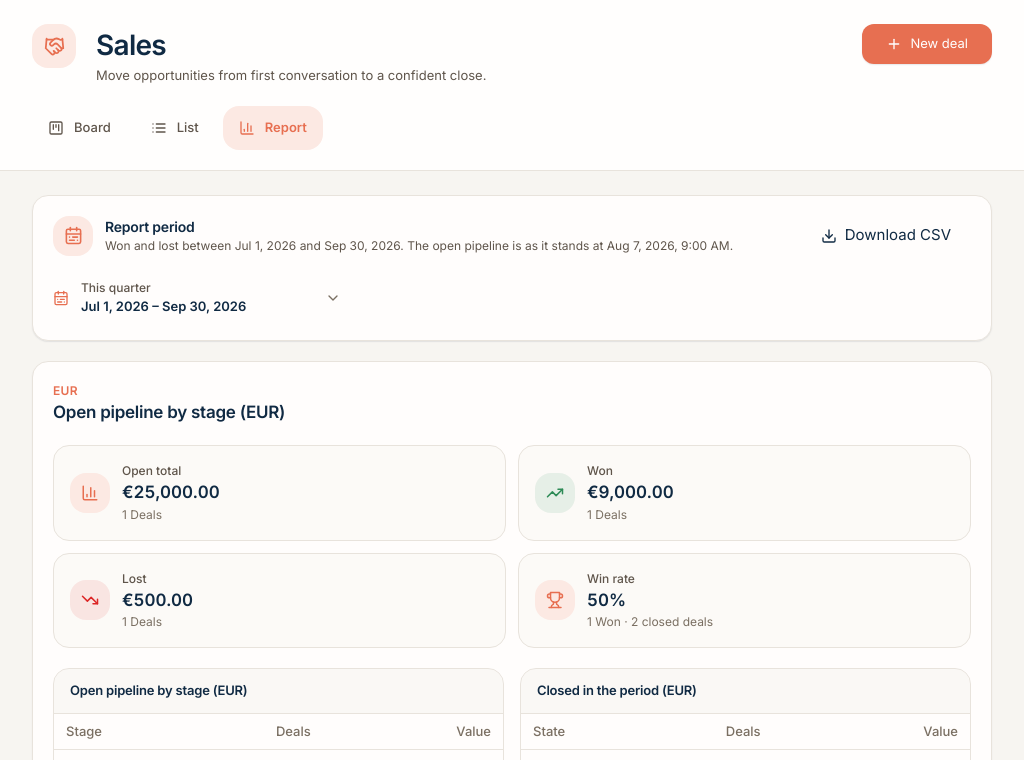
Test: the report › applies a quick range only after the user confirms it
The image size is (1024, 760).
Click the button "This quarter Jul 1, 2026 – Sep 30, 2026" at (197, 298), box [53, 276, 341, 320]
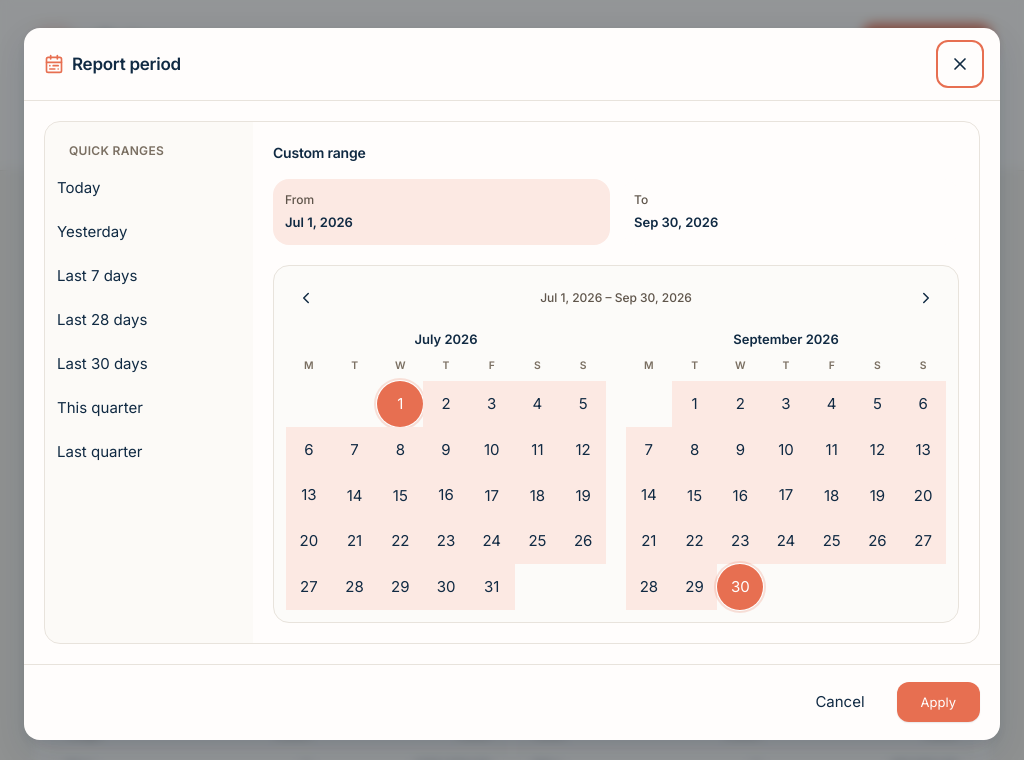
Click the button "Last 28 days" at (149, 320), box [57, 300, 241, 340]
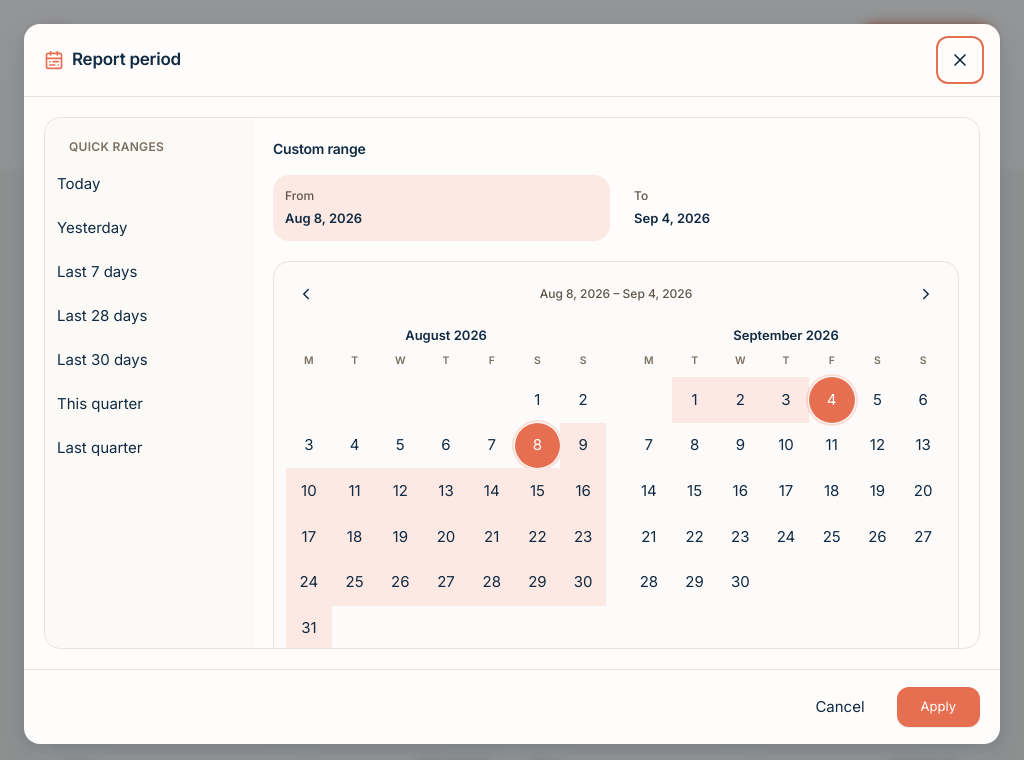
Click the button "Apply" at (938, 707), box [897, 687, 980, 727]
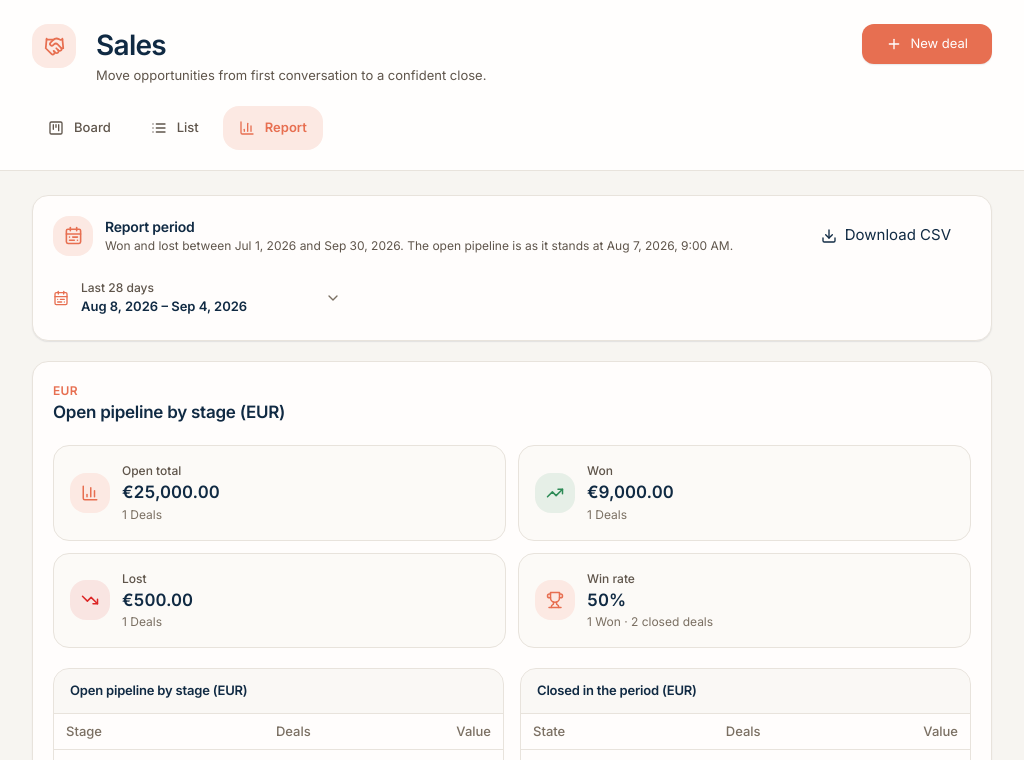
Expected: the button "Last 28 days Aug 8, 2026 – Sep 4, 2026" is shown, [53, 276, 341, 320]
